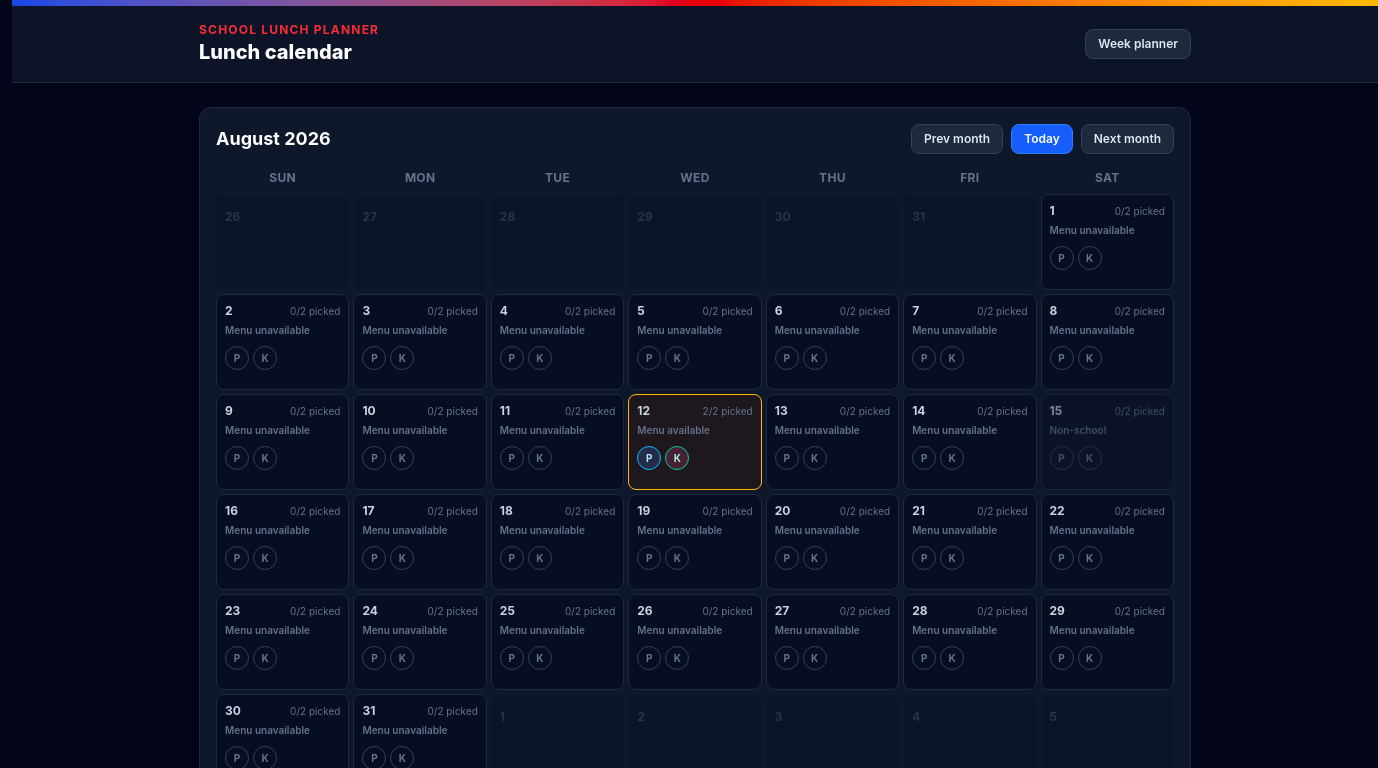
Month Planner Readback calendar › moves between addressable months and returns to today
Expected: the heading "August 2026" is shown, left=216, top=125, right=331, bottom=153
Click the button "Next month": click(1127, 139) left=1081, top=124, right=1174, bottom=154
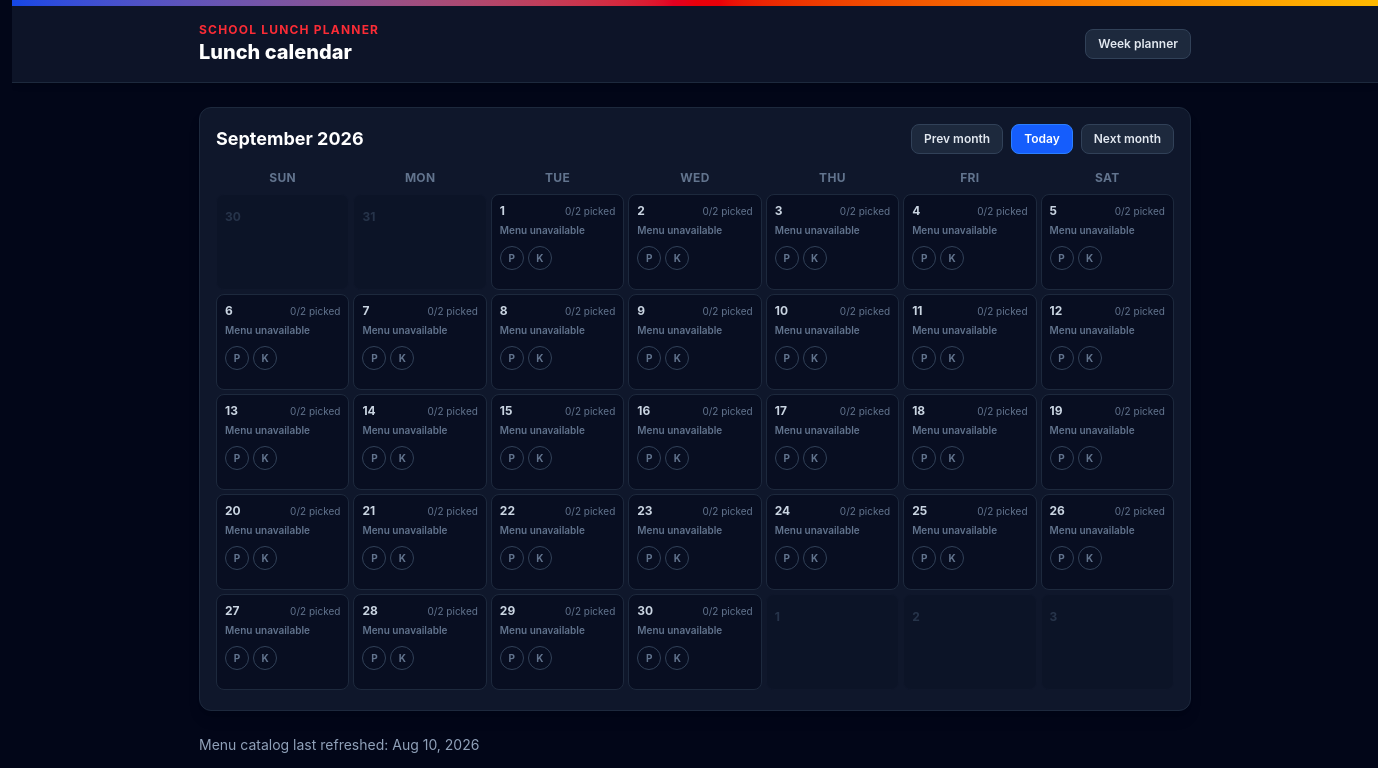
Expected: the heading "September 2026" is shown, left=216, top=125, right=364, bottom=153
Click the button "Today": click(1042, 139) left=1011, top=124, right=1073, bottom=154
(page scrolled)
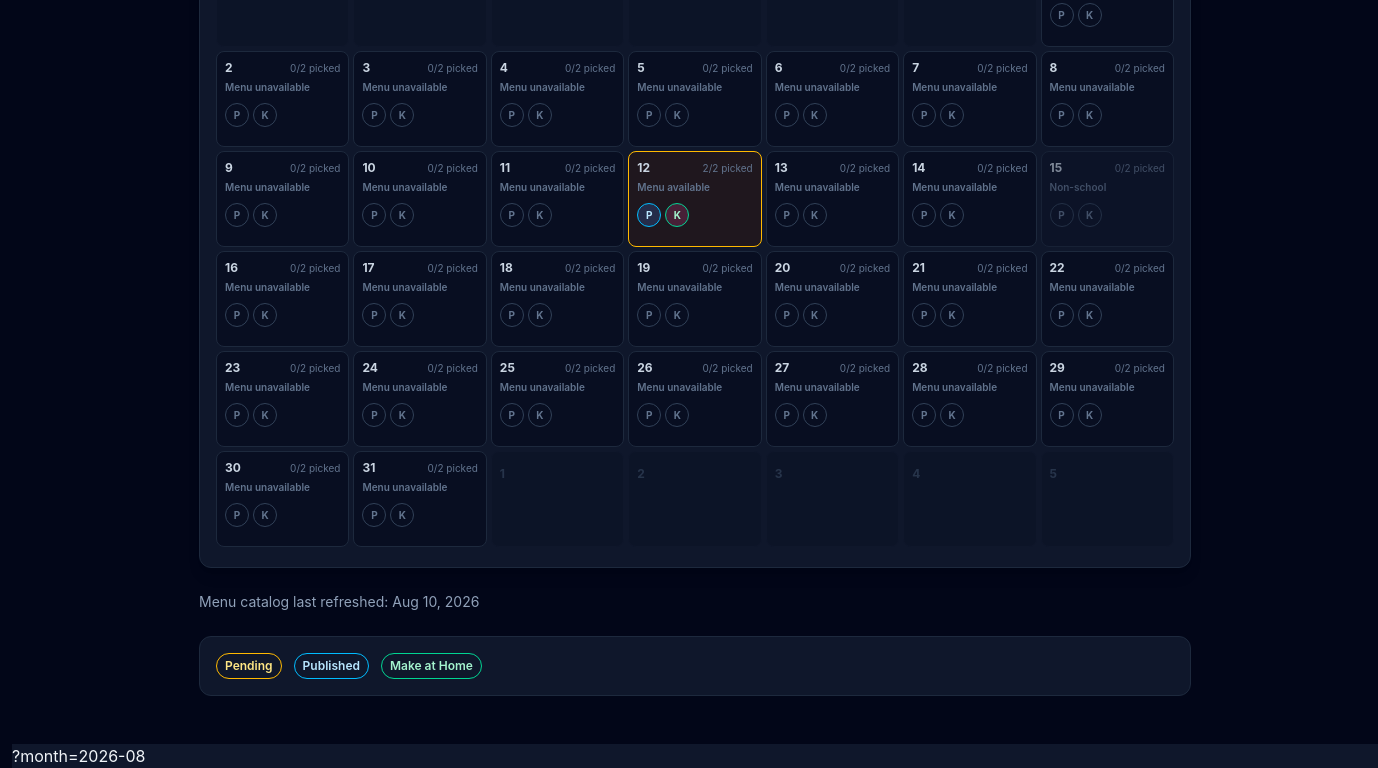
Expected: the text named "Current location" reads "?month=2026-08", left=12, top=746, right=145, bottom=766
